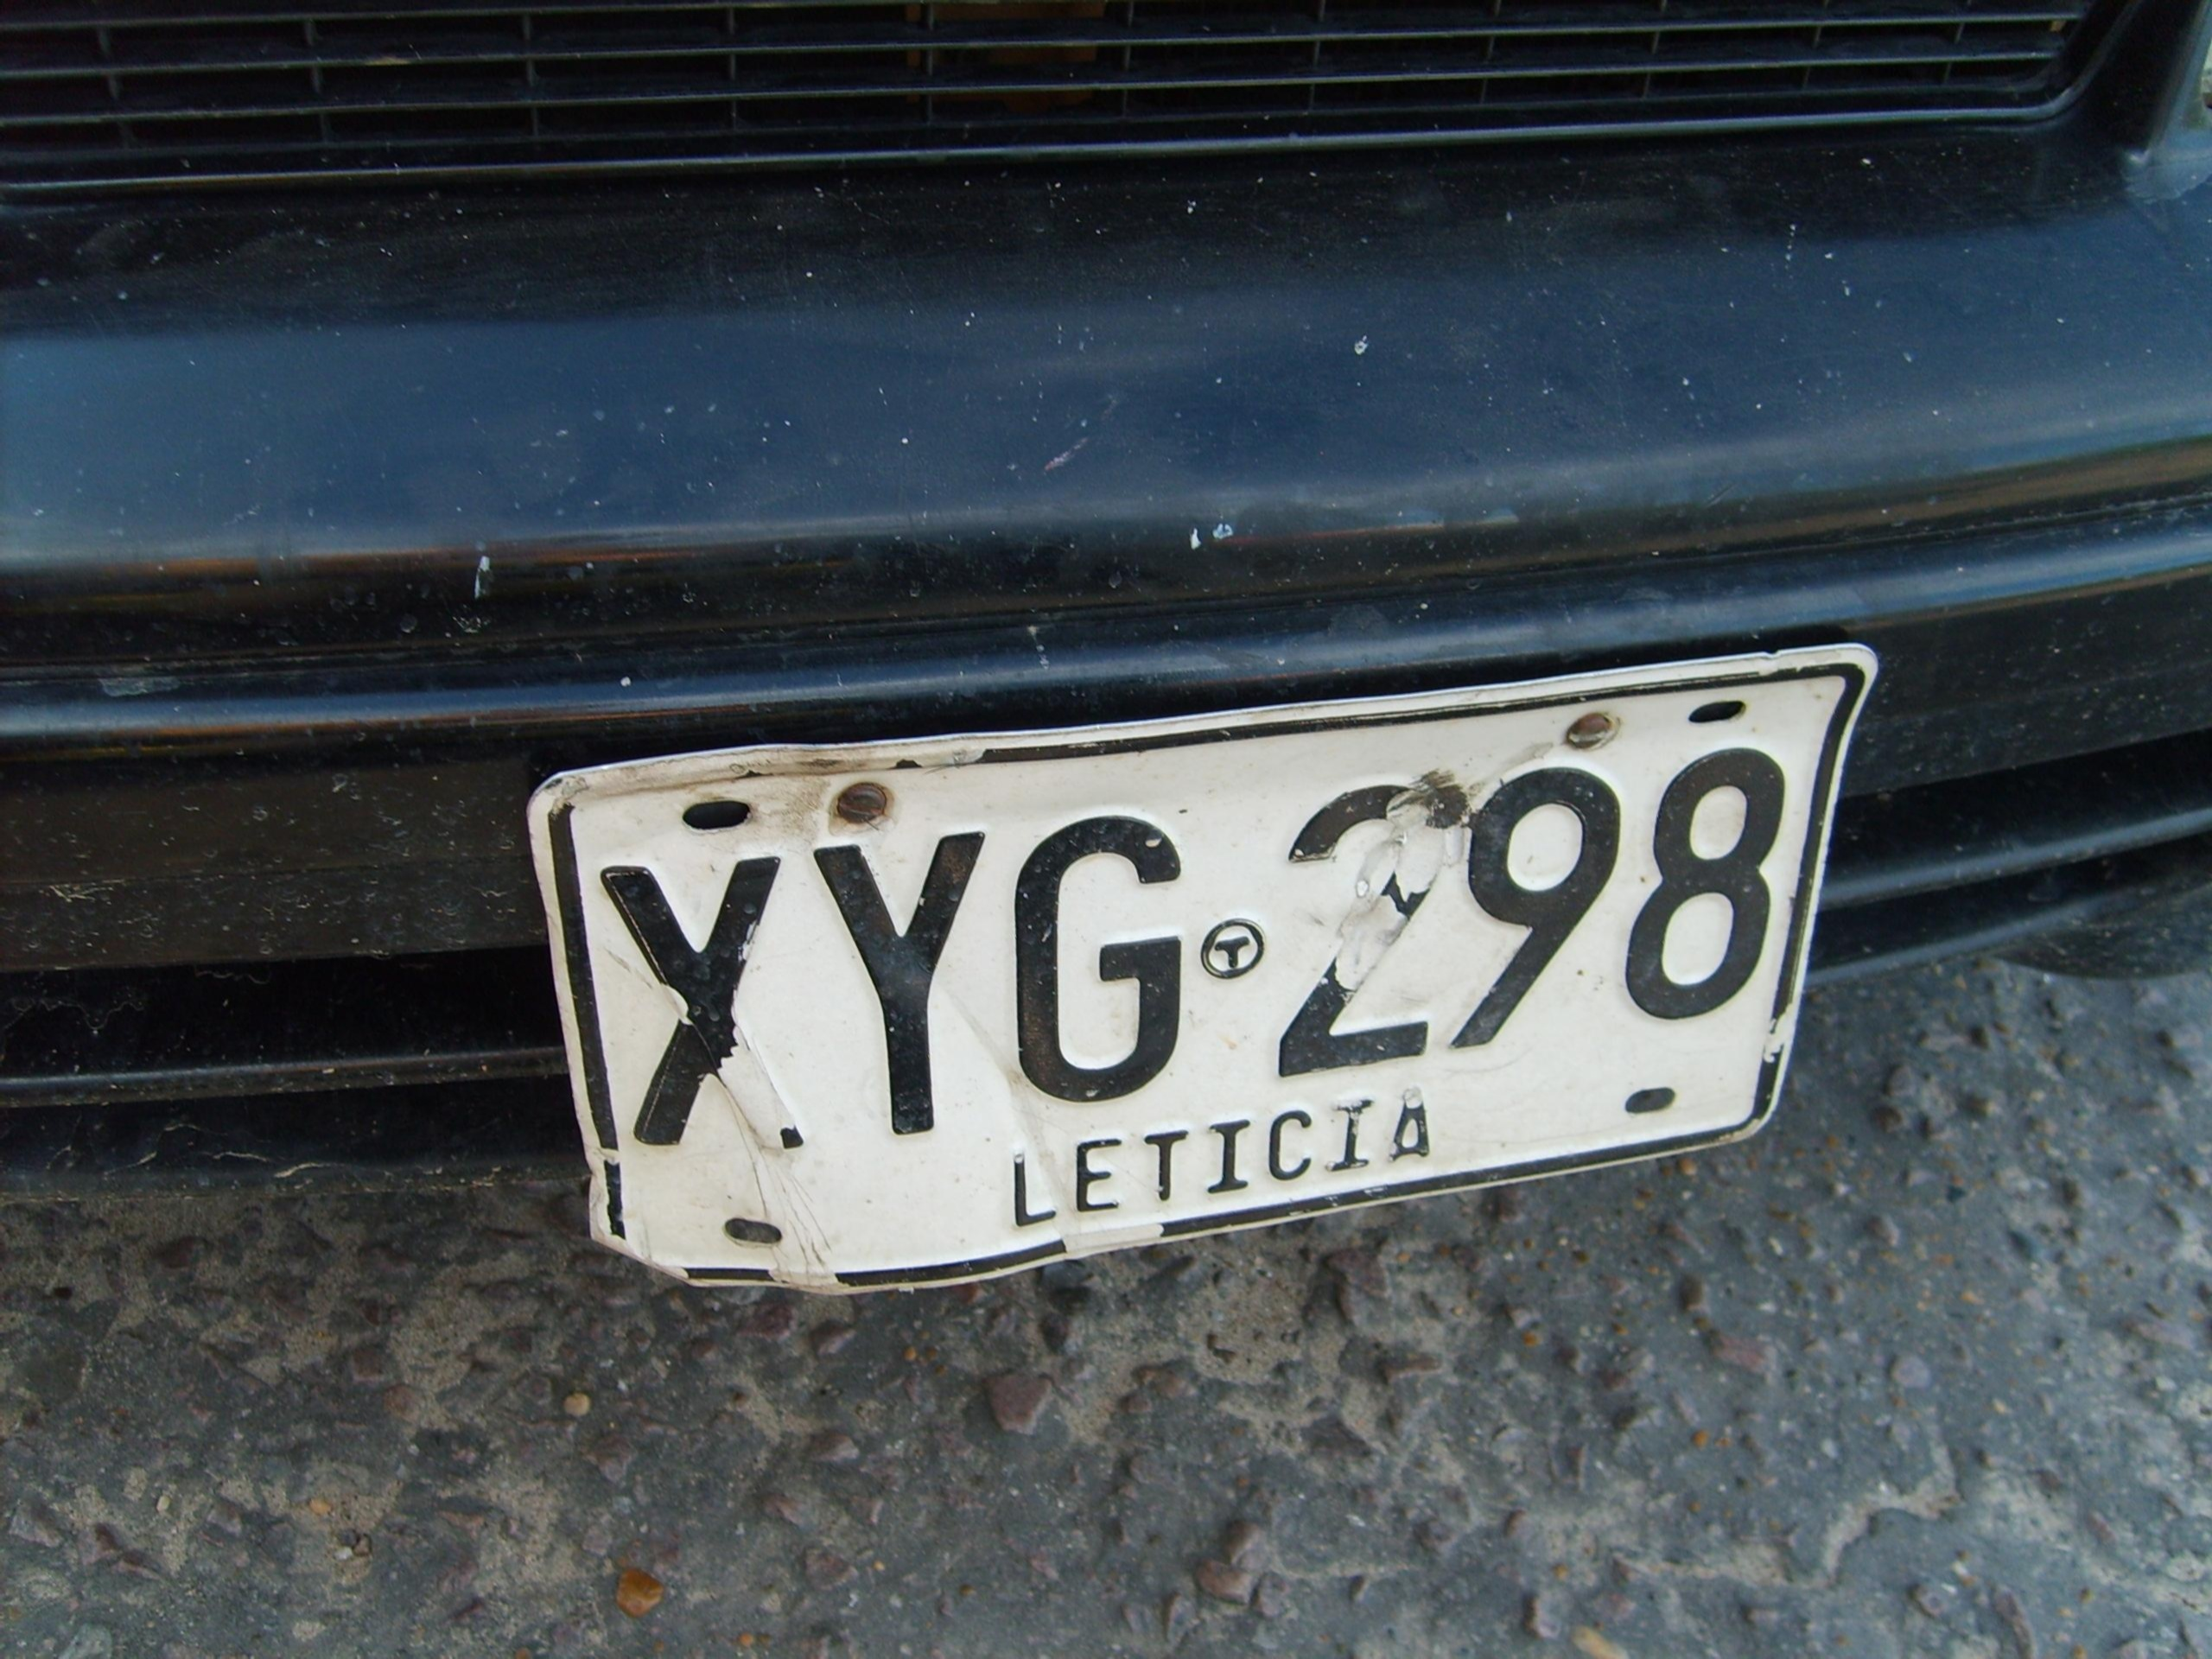placas: (515, 626, 1885, 1300)
